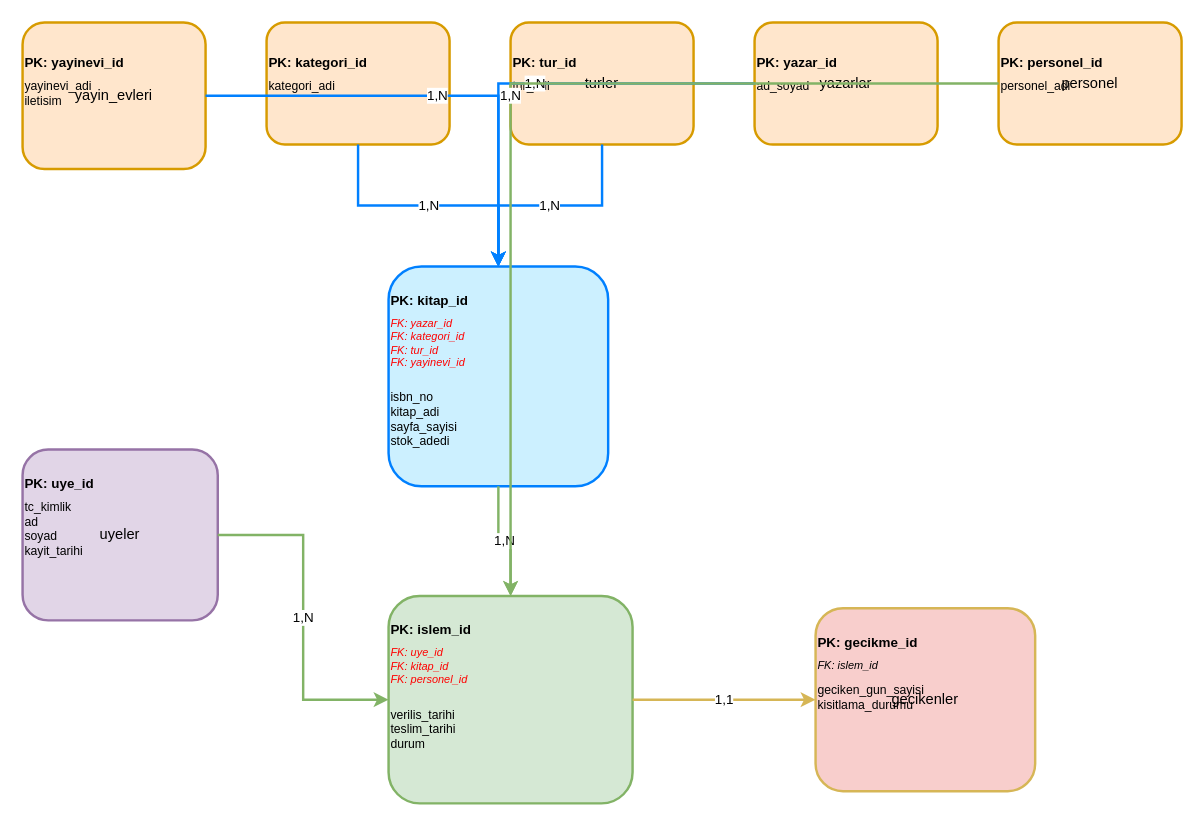
This 1203x825 diagram has some shape labels left out. The shapes that lost their labels are listed below. From the top down, each one's box as (x1, y1, x2, y2) in pixels, then its label:
(265, 21, 450, 145): kategoriler
(387, 265, 609, 487): kitaplar
(387, 594, 633, 804): odunc_islemleri
